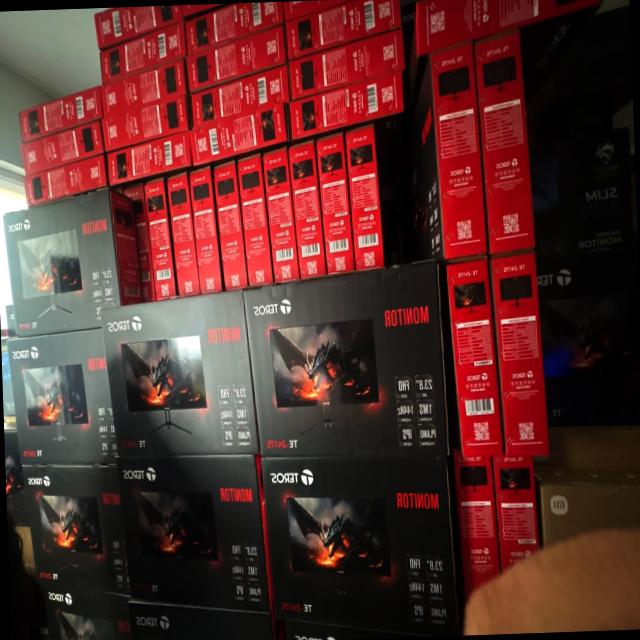caja-monitor: (241, 266, 448, 457), (261, 459, 459, 635), (103, 289, 258, 455), (116, 455, 269, 608), (3, 189, 140, 336), (535, 245, 640, 429), (402, 43, 489, 263), (6, 329, 116, 467), (23, 465, 129, 595), (529, 129, 634, 260), (440, 258, 506, 456), (476, 33, 534, 256), (491, 254, 547, 457), (416, 0, 586, 61), (533, 465, 640, 549), (287, 30, 403, 102), (288, 70, 404, 142), (452, 454, 499, 601), (285, 0, 400, 58), (191, 63, 288, 128), (187, 27, 284, 91), (189, 105, 285, 168), (344, 125, 383, 269), (315, 133, 354, 275), (130, 602, 273, 640), (100, 21, 185, 83), (288, 141, 325, 279), (99, 60, 187, 118), (101, 96, 189, 154), (495, 458, 538, 575), (235, 154, 273, 286), (261, 145, 297, 283), (106, 131, 190, 188), (186, 3, 283, 52), (43, 588, 131, 640), (18, 87, 102, 141), (189, 165, 224, 294), (212, 161, 247, 289), (22, 120, 104, 174), (24, 154, 105, 207), (167, 171, 200, 296), (144, 176, 175, 301), (95, 5, 182, 49), (122, 186, 155, 301)
